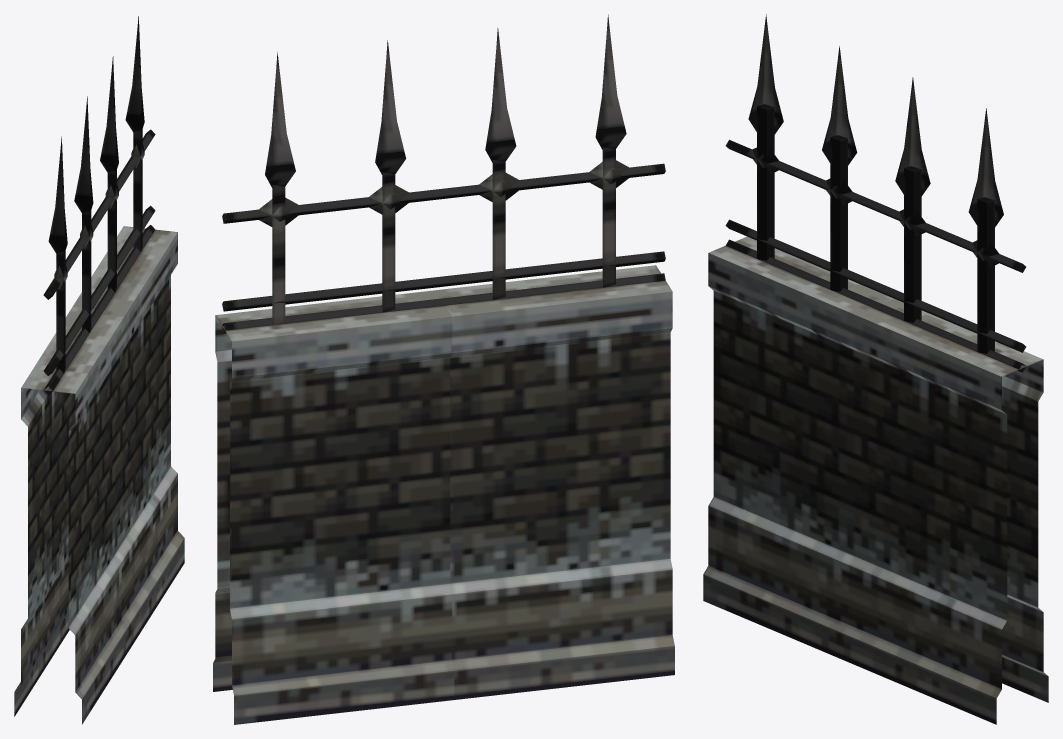
The model's file is EnvBdgMD_Snow_Seidoukikan_A_GrdWall_SL_LF.FBX.
3 renders of one model, left to right at view 1: azimuth 30°, elevation 25°; view 2: azimuth 150°, elevation 25°; view 3: azimuth 270°, elevation 25°, orthographic. The views are drawn at different scales.
Visible parts, largest first — view 1: EnvBdgMD_Snow_Seidoukikan_A_GrdWall_SL_LF; view 2: EnvBdgMD_Snow_Seidoukikan_A_GrdWall_SL_LF; view 3: EnvBdgMD_Snow_Seidoukikan_A_GrdWall_SL_LF.
Part boxes in pixels (bbox=[...]): EnvBdgMD_Snow_Seidoukikan_A_GrdWall_SL_LF: bbox=[14, 16, 184, 724]; EnvBdgMD_Snow_Seidoukikan_A_GrdWall_SL_LF: bbox=[213, 14, 674, 724]; EnvBdgMD_Snow_Seidoukikan_A_GrdWall_SL_LF: bbox=[703, 14, 1048, 724].
Bounding box in the file's own units: 235 × 445 × 235.
Materials: 1 (1 with a texture image).
